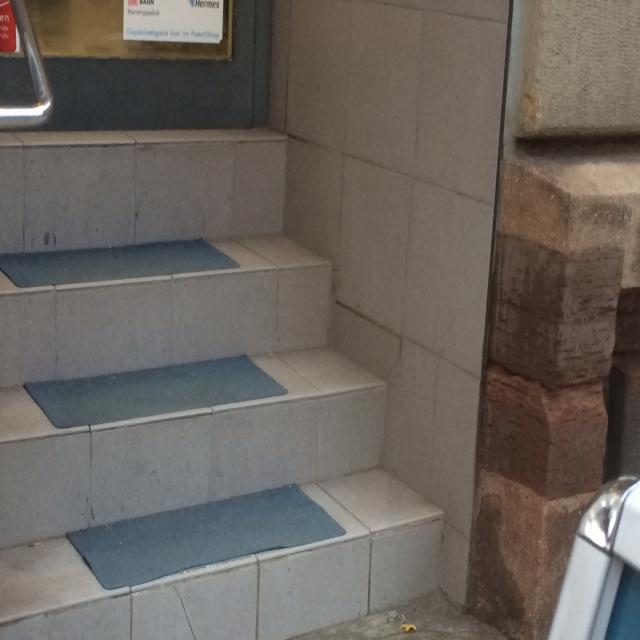AVOID: (2, 131, 444, 640)
